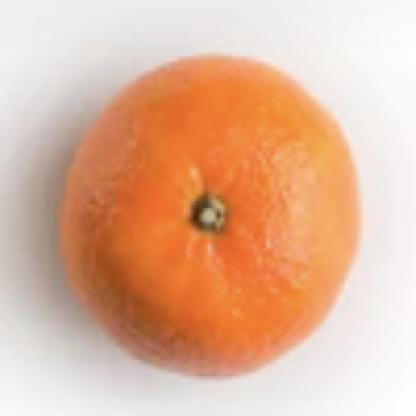fresh: (62, 53, 360, 376)
